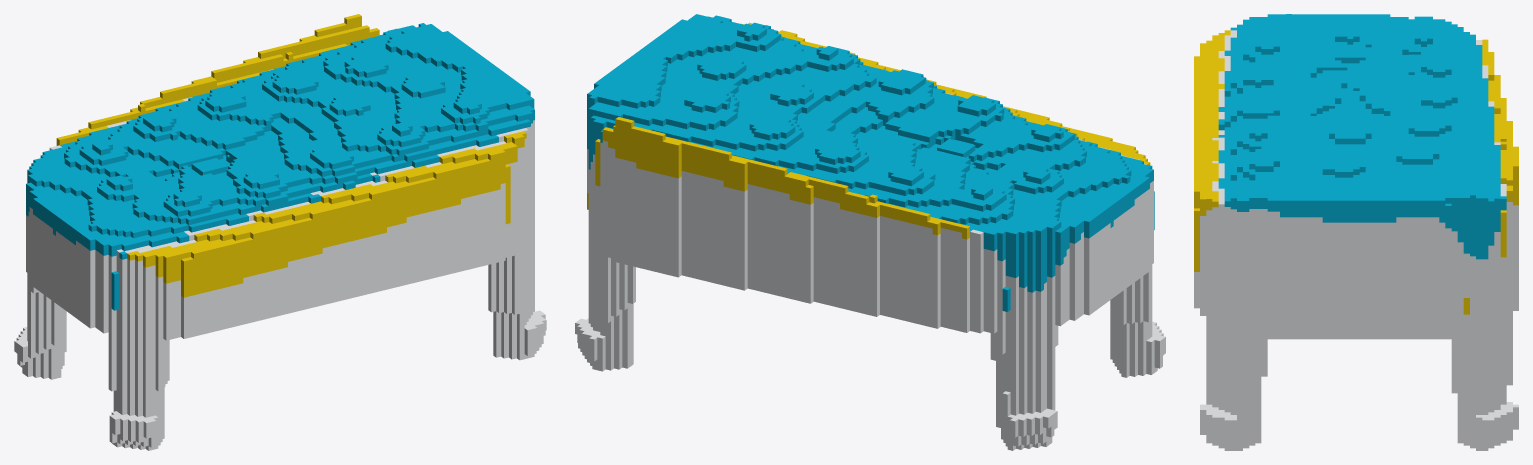
Rendered from diff_volume.glb.
The picture shows the model from 3 angles, left to right: view 1: azimuth 30°, elevation 25°; view 2: azimuth 150°, elevation 25°; view 3: azimuth 270°, elevation 25°; orthographic projection. The views are drawn at different scales.
Parts seen in each view (by area): view 1: =>[0:1:1:409], =>[0:1:1:405], =>[0:1:1:4961], =>[0:1:1:4958], =>[0:1:1:4963], =>[0:1:1:4959], =>[0:1:1:392], =>[0:1:1:410], =>[0:1:1:4960], =>[0:1:1:411], =>[0:1:1:4964], =>[0:1:1:909] (+30 smaller); view 2: =>[0:1:1:851], =>[0:1:1:492], =>[0:1:1:713], =>[0:1:1:303], =>[0:1:1:478], =>[0:1:1:405], =>[0:1:1:893], =>[0:1:1:5612], =>[0:1:1:2657], =>[0:1:1:711], =>[0:1:1:2673], =>[0:1:1:5675] (+27 smaller); view 3: =>[0:1:1:717], =>[0:1:1:523], =>[0:1:1:536], =>[0:1:1:2646], =>[0:1:1:535], =>[0:1:1:1255], =>[0:1:1:1448], =>[0:1:1:889], =>[0:1:1:308], =>[0:1:1:482], =>[0:1:1:2657], =>[0:1:1:1617] (+59 smaller).
Part boxes in pixels (bbox=[...]): =>[0:1:1:409]: bbox=[184, 219, 505, 338]; =>[0:1:1:405]: bbox=[33, 219, 90, 327]; =>[0:1:1:4961]: bbox=[322, 196, 386, 248]; =>[0:1:1:4958]: bbox=[184, 247, 243, 297]; =>[0:1:1:4963]: bbox=[406, 173, 460, 217]; =>[0:1:1:4959]: bbox=[243, 231, 287, 277]; =>[0:1:1:392]: bbox=[145, 265, 155, 417]; =>[0:1:1:410]: bbox=[243, 214, 505, 282]; =>[0:1:1:4960]: bbox=[288, 217, 322, 261]; =>[0:1:1:411]: bbox=[288, 209, 505, 266]; =>[0:1:1:4964]: bbox=[461, 158, 500, 198]; =>[0:1:1:909]: bbox=[519, 147, 524, 354]; =>[0:1:1:851]: bbox=[681, 176, 744, 290]; =>[0:1:1:492]: bbox=[747, 189, 810, 303]; =>[0:1:1:713]: bbox=[813, 202, 876, 316]; =>[0:1:1:303]: bbox=[615, 163, 678, 277]; =>[0:1:1:478]: bbox=[880, 221, 937, 328]; =>[0:1:1:405]: bbox=[1089, 200, 1149, 314]; =>[0:1:1:893]: bbox=[940, 233, 966, 332]; =>[0:1:1:5612]: bbox=[636, 135, 678, 178]; =>[0:1:1:2657]: bbox=[645, 14, 722, 57]; =>[0:1:1:711]: bbox=[593, 154, 600, 331]; =>[0:1:1:2673]: bbox=[587, 52, 665, 98]; =>[0:1:1:5675]: bbox=[681, 143, 723, 180]; =>[0:1:1:717]: bbox=[1267, 228, 1451, 339]; =>[0:1:1:523]: bbox=[1249, 209, 1267, 336]; =>[0:1:1:536]: bbox=[1476, 259, 1488, 414]; =>[0:1:1:2646]: bbox=[1322, 200, 1396, 222]; =>[0:1:1:535]: bbox=[1230, 209, 1236, 414]; =>[0:1:1:1255]: bbox=[1218, 204, 1224, 409]; =>[0:1:1:1448]: bbox=[1224, 207, 1230, 412]; =>[0:1:1:889]: bbox=[1212, 207, 1218, 407]; =>[0:1:1:308]: bbox=[1237, 212, 1242, 445]; =>[0:1:1:482]: bbox=[1206, 210, 1212, 404]; =>[0:1:1:2657]: bbox=[1249, 185, 1353, 197]; =>[0:1:1:1617]: bbox=[1506, 202, 1512, 385].
Size of the model in its own units: 38.98 by 20.58 by 23.21.
